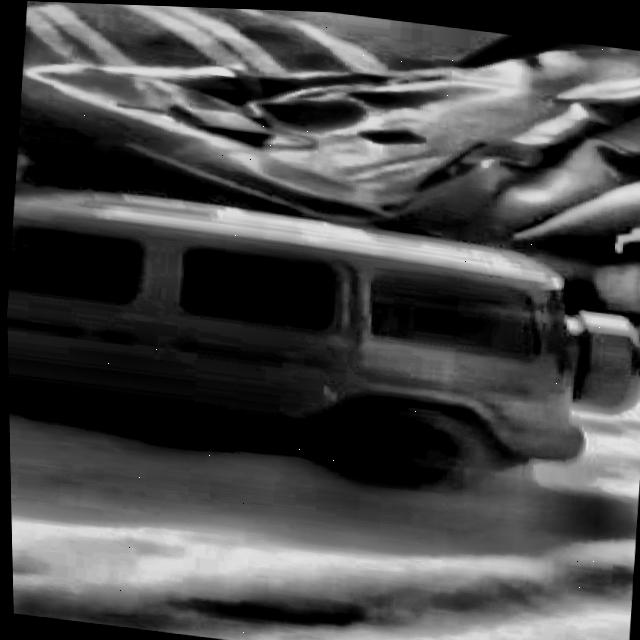light_vehicle: (3, 180, 640, 502)
